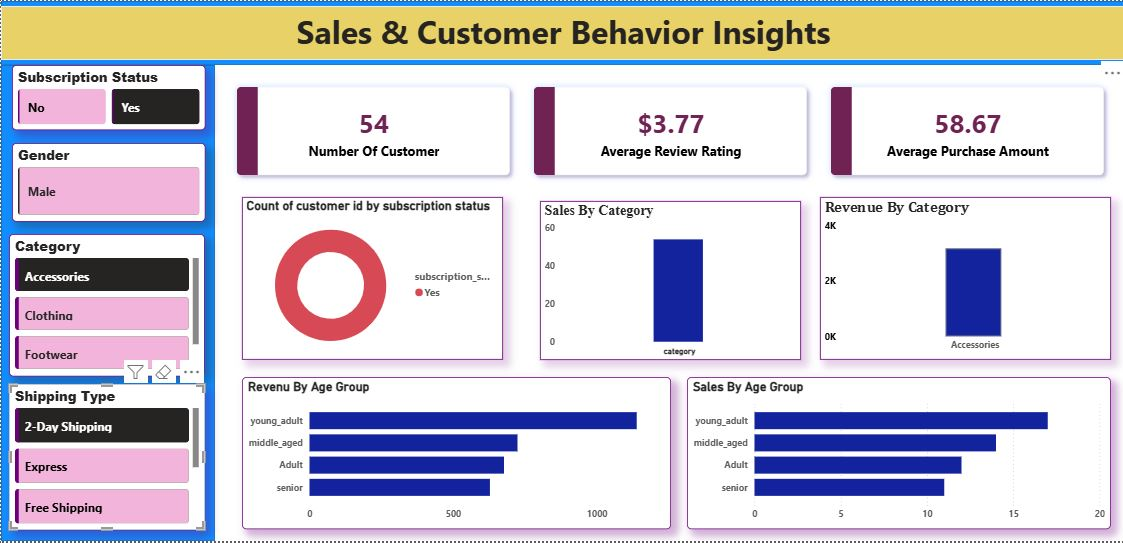

The dashboard page shown, as its layout file describes it:
{"tool":"powerbi","page":{"name":"Page 1","canvas":[1500,720],"ordinal":0},"visuals":[{"type":"cardVisual","fields":{"Data":["customer_behavior customer.Number Of Customer","customer_behavior customer.Average Review Rating","customer_behavior customer.Average Purchase Amount"]},"box":[285,85,1215,176.7],"z":0},{"type":"shape","title":"hbjhj","box":[0,0,1500,85],"z":1000},{"type":"textbox","box":[0,6.7,1500,71.7],"z":2000},{"type":"shape","box":[0,85,285,635],"z":3000},{"type":"donutChart","title":"Count of customer id by subscription status","fields":{"Y":["CountNonNull(customer_behavior customer.customer_id)"],"Category":["customer_behavior customer.subscription_status"]},"box":[321.7,261.7,348.3,216.7],"z":4000},{"type":"clusteredColumnChart","title":"Sales By Category","fields":{"Y":["CountNonNull(customer_behavior customer.customer_id)"],"Category":["customer_behavior customer.category"]},"box":[718.3,266.7,348.3,211.7],"z":5000},{"type":"clusteredColumnChart","title":"Revenue By Category","fields":{"Y":["Sum(customer_behavior customer.purchase_amount)"],"Category":["customer_behavior customer.category"]},"box":[1091.7,261.7,388.3,216.7],"z":6000},{"type":"clusteredBarChart","title":"Revenu By Age Group","fields":{"Y":["Sum(customer_behavior customer.purchase_amount)"],"Category":["customer_behavior customer.age_group"]},"box":[321.7,501.7,571.7,203.3],"z":7000},{"type":"clusteredBarChart","title":"Sales By Age Group","fields":{"Y":["CountNonNull(customer_behavior customer.customer_id)"],"Category":["customer_behavior customer.age_group"]},"box":[915,501.7,565,203.3],"z":8000},{"type":"advancedSlicerVisual","title":"Subscription Status","fields":{"Values":["customer_behavior customer.subscription_status"]},"box":[14.5,85.5,258.1,87.1],"z":9000},{"type":"advancedSlicerVisual","title":"Gender","fields":{"Values":["customer_behavior customer.gender"]},"box":[14.5,188.7,258.1,104.8],"z":10000},{"type":"advancedSlicerVisual","title":"Category","fields":{"Values":["customer_behavior customer.category"]},"box":[11.3,311.3,261.3,190.3],"z":11000},{"type":"advancedSlicerVisual","title":"Shipping Type","fields":{"Values":["customer_behavior customer.shipping_type"]},"box":[10.7,510.7,261.3,194.7],"z":12000}]}

Visuals, with their boxes in screenshot pixels (x1, y1, x2, y2), scaled from the page's 1500x720 canvas onto the 1123x543 screenshot:
cardVisual - customer_behavior customer.Number Of Customer x customer_behavior customer.Average Review Rating: bbox(213, 64, 1122, 197)
"hbjhj" shape: bbox(0, 0, 1122, 64)
textbox: bbox(0, 5, 1122, 59)
shape: bbox(0, 64, 213, 542)
"Count of customer id by subscription status" donutChart: bbox(241, 197, 502, 361)
"Sales By Category" clusteredColumnChart: bbox(538, 201, 799, 361)
"Revenue By Category" clusteredColumnChart: bbox(817, 197, 1108, 361)
"Revenu By Age Group" clusteredBarChart: bbox(241, 378, 669, 532)
"Sales By Age Group" clusteredBarChart: bbox(685, 378, 1108, 532)
"Subscription Status" advancedSlicerVisual: bbox(11, 64, 204, 130)
"Gender" advancedSlicerVisual: bbox(11, 142, 204, 221)
"Category" advancedSlicerVisual: bbox(8, 235, 204, 378)
"Shipping Type" advancedSlicerVisual: bbox(8, 385, 204, 532)
